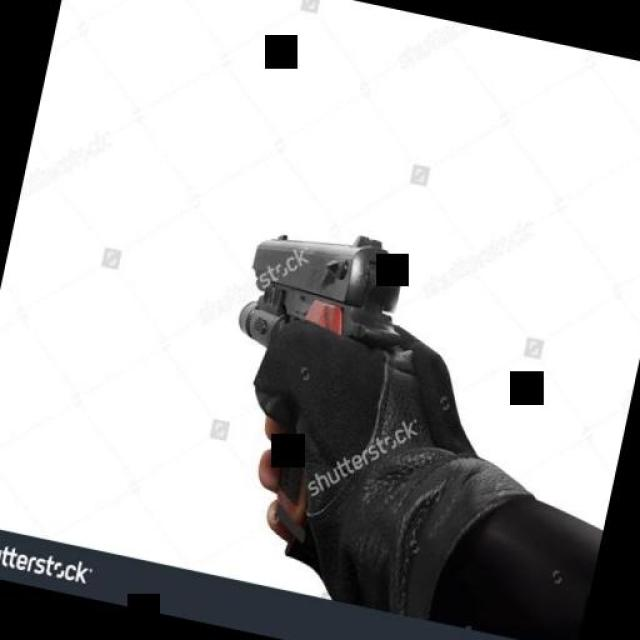gun: (194, 210, 416, 550)
